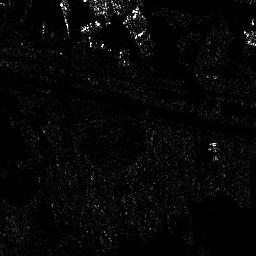ship: (81, 20, 102, 35)
